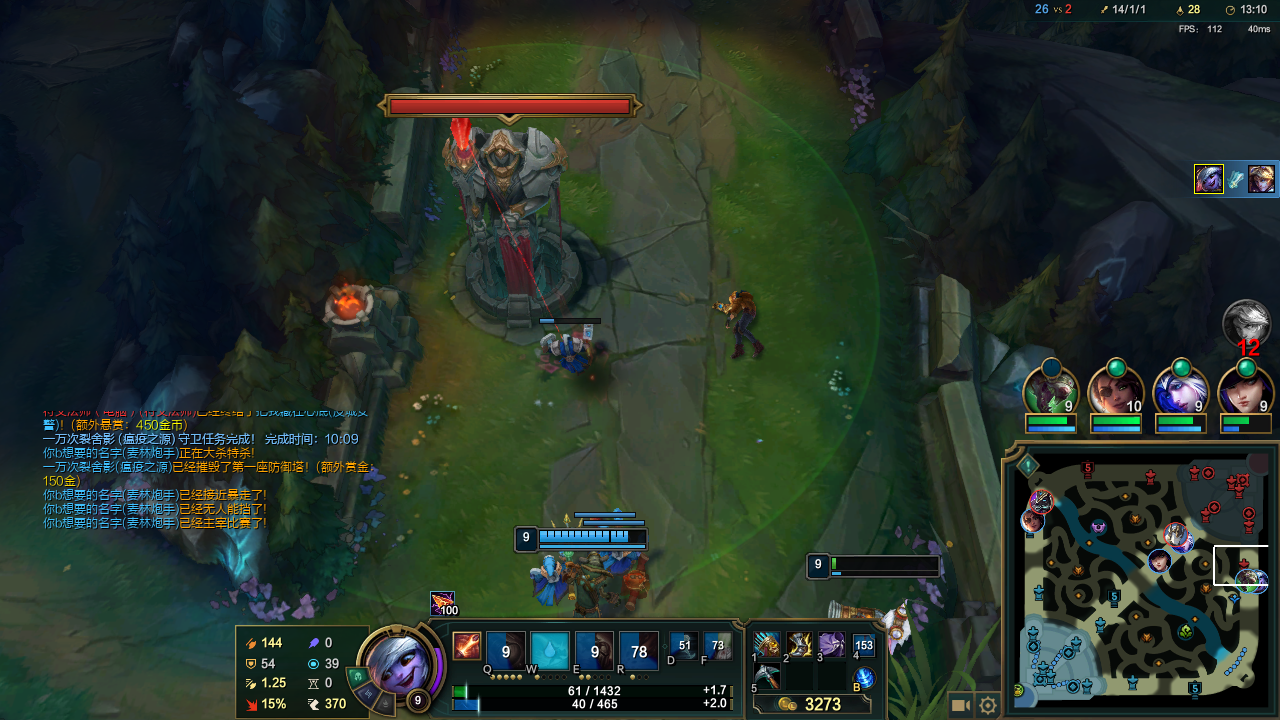DFFYT: (377, 92, 603, 327)
WFXB: (540, 325, 606, 377), (530, 555, 572, 606)
